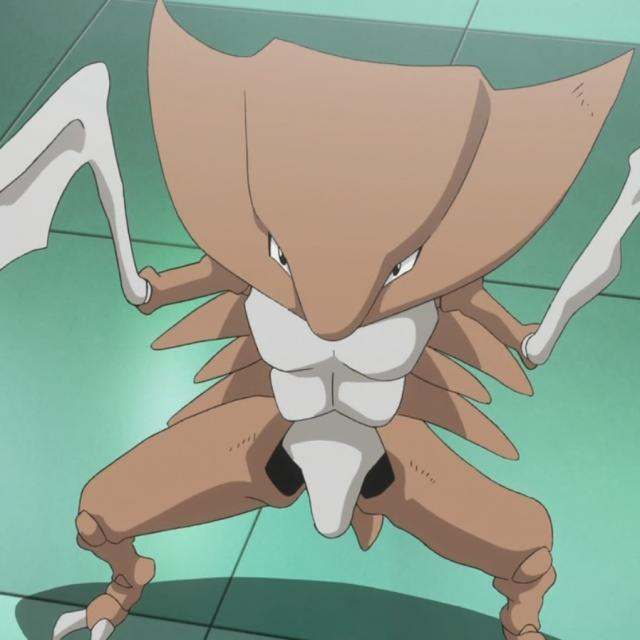Kabutops: (33, 44, 634, 565)
